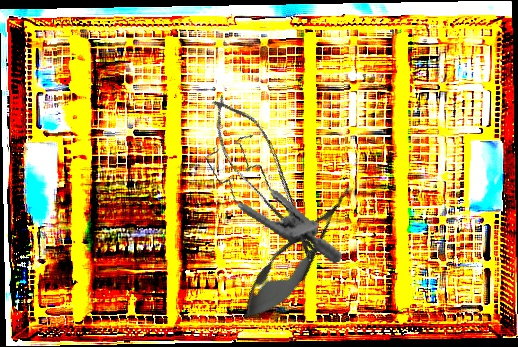Micro Scissor: (196, 86, 336, 270), (230, 173, 368, 334)
Speculum: (188, 126, 363, 265)
